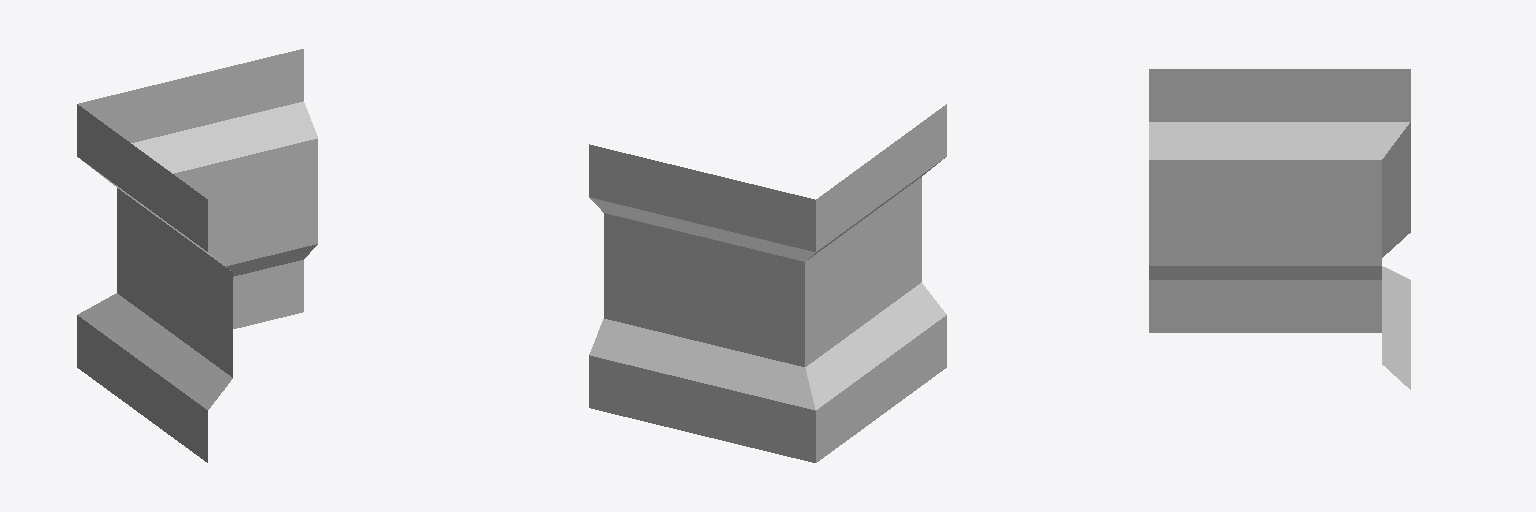
The model's file is Outer_Corner_Wall.obj.
3 renders of one model, left to right at view 1: azimuth 30°, elevation 25°; view 2: azimuth 150°, elevation 25°; view 3: azimuth 270°, elevation 25°, orthographic.
Parts seen in each view (by area): view 1: Outer_Corner_Wall; view 2: Outer_Corner_Wall; view 3: Outer_Corner_Wall.
Boxes of the visible parts, <box> form: Outer_Corner_Wall: <box>77,49,317,462</box>; Outer_Corner_Wall: <box>589,104,946,462</box>; Outer_Corner_Wall: <box>1149,69,1410,389</box>.
Bounding box in the file's own units: 0.9 × 1 × 0.9.